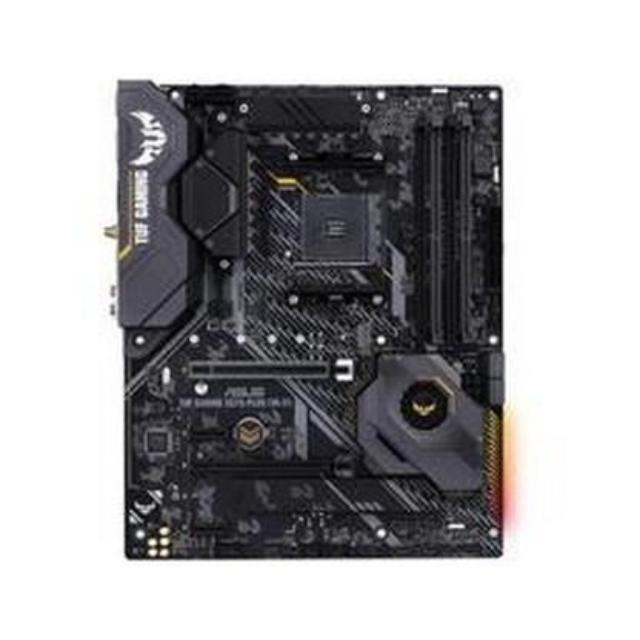Mainboard: (104, 80, 513, 566)
